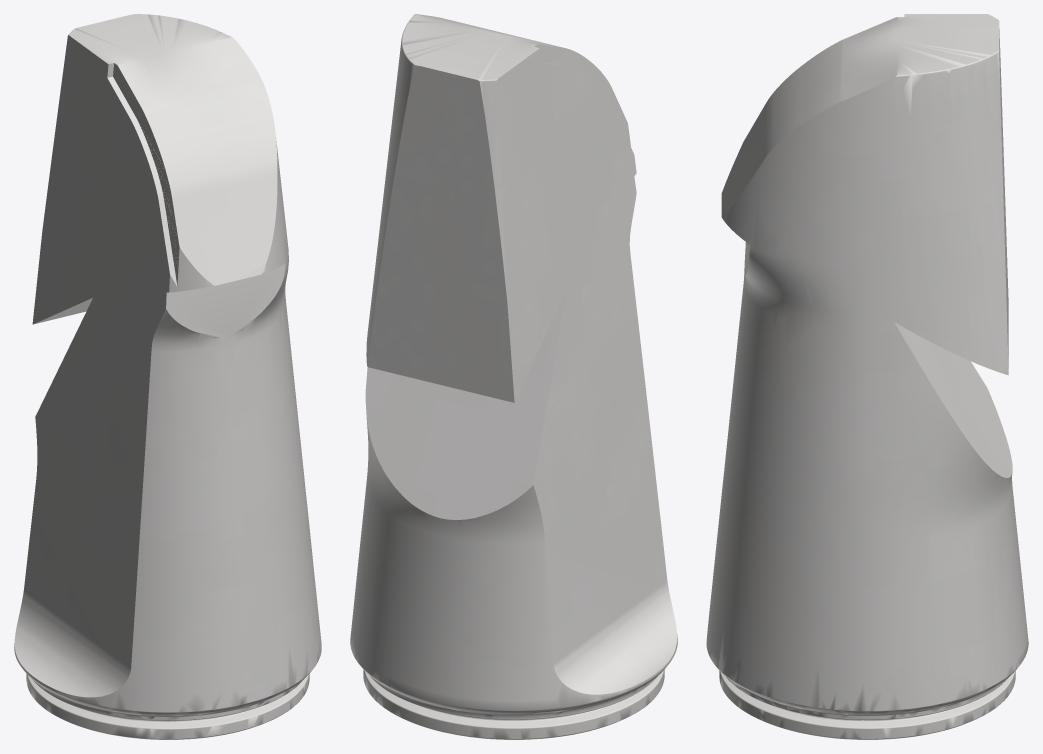
The model's file is knight-white-hd.glb.
3 views of the same model, side by side, from view 1: azimuth 30°, elevation 25°; view 2: azimuth 150°, elevation 25°; view 3: azimuth 270°, elevation 25° (orthographic). The views are drawn at different scales.
Visible parts, largest first — view 1: 04_jezdec_bila; view 2: 04_jezdec_bila; view 3: 04_jezdec_bila.
Part boxes in pixels (box(x1,y1,x2,y2)): 04_jezdec_bila: box(14, 14, 321, 739); 04_jezdec_bila: box(350, 14, 677, 739); 04_jezdec_bila: box(706, 14, 1028, 739).
Bounding box in the file's own units: 0.6398 × 1.41 × 0.6397.
Materials: 1 (1 with a texture image).
